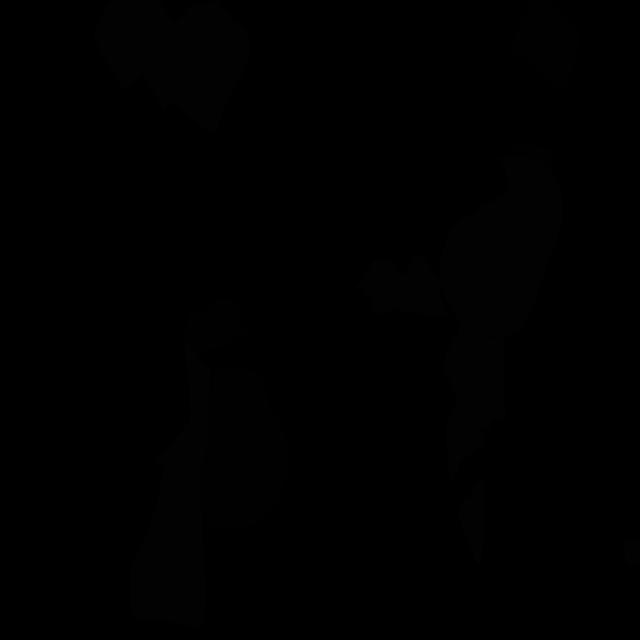cardboard: (131, 341, 211, 627), (439, 154, 563, 337), (93, 0, 251, 134), (442, 324, 506, 486), (354, 256, 449, 317), (458, 480, 484, 566), (624, 536, 640, 567)
rigid_plastic: (200, 368, 290, 533), (510, 0, 579, 93), (184, 298, 253, 357), (510, 141, 555, 178)
